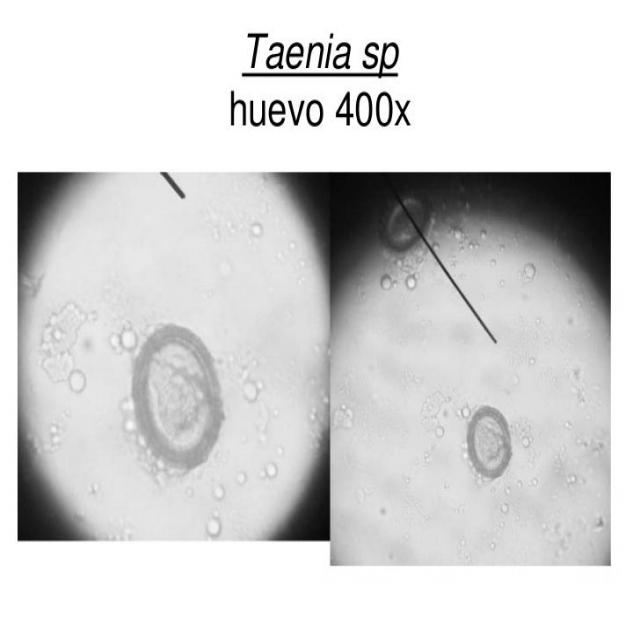Taenia Sp: (125, 315, 228, 475), (463, 394, 515, 487)
